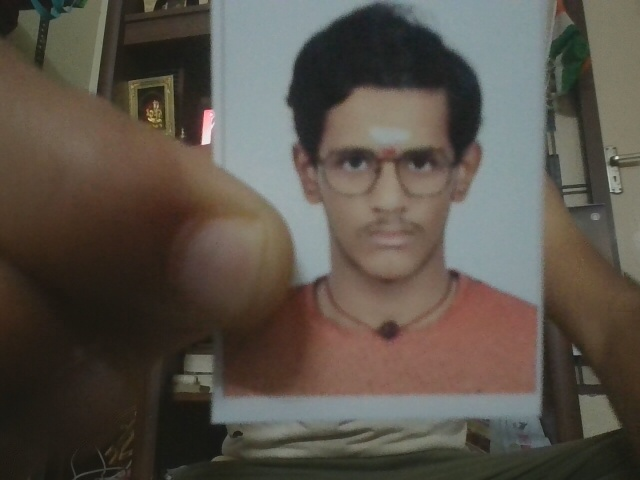fake: (282, 83, 494, 295)
